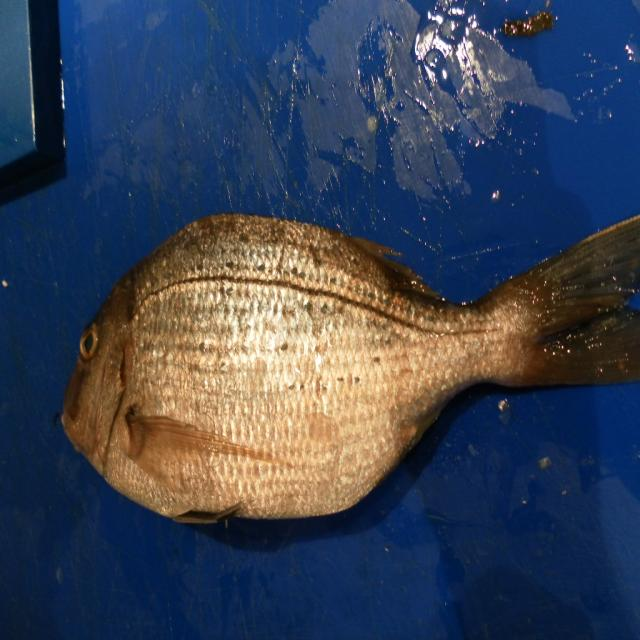Red-Sea-Bream-mercan-: (58, 213, 640, 542)
